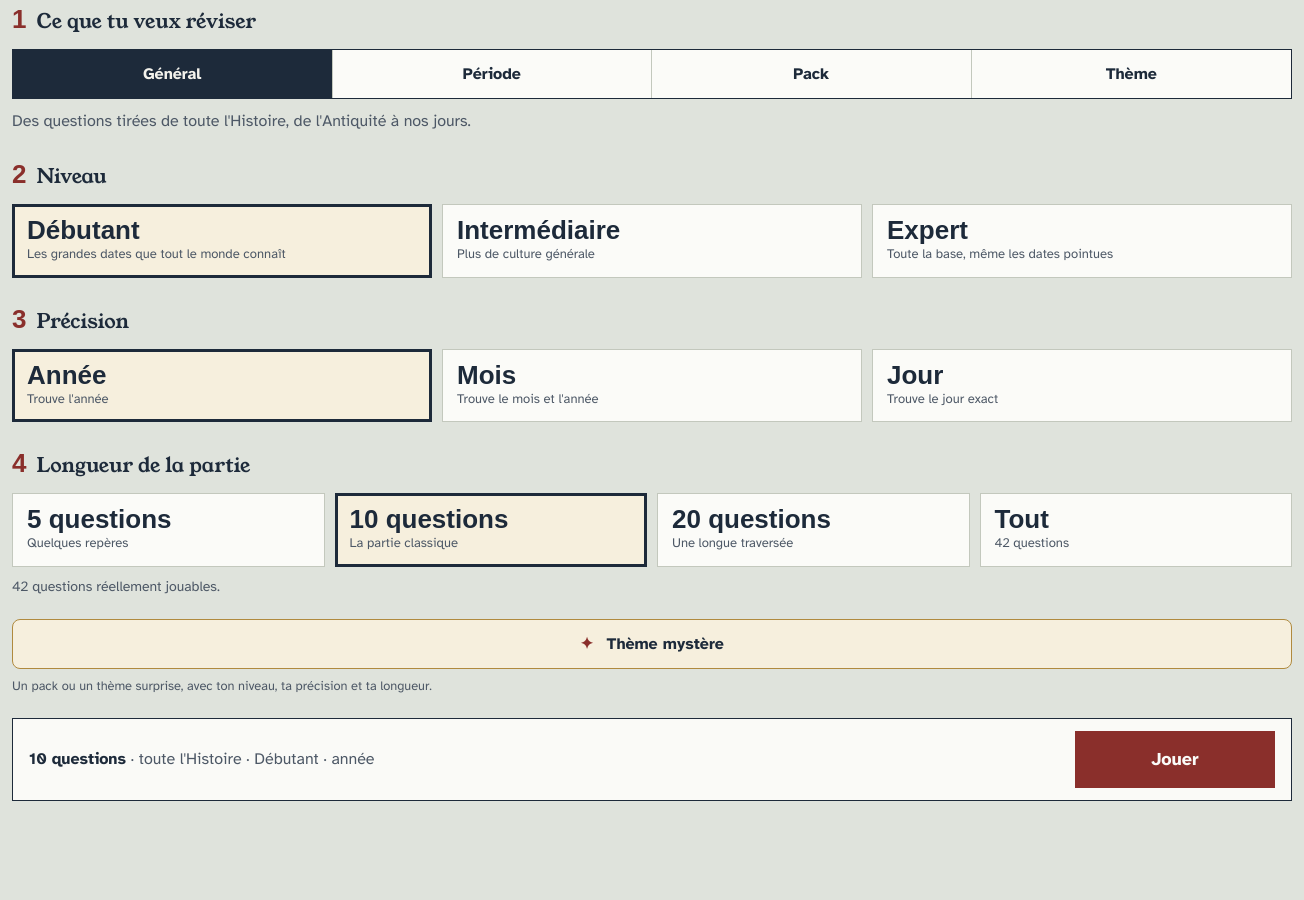
Scenario: reprend une mémoire historique avec dix questions et désactive les longueurs indisponibles
Expected: the text "42 questions réellement jouables." is shown, [12, 578, 220, 594]
Click the button "Jour Trouve le jour exact".
click(915, 374)  # box [872, 348, 1292, 422]
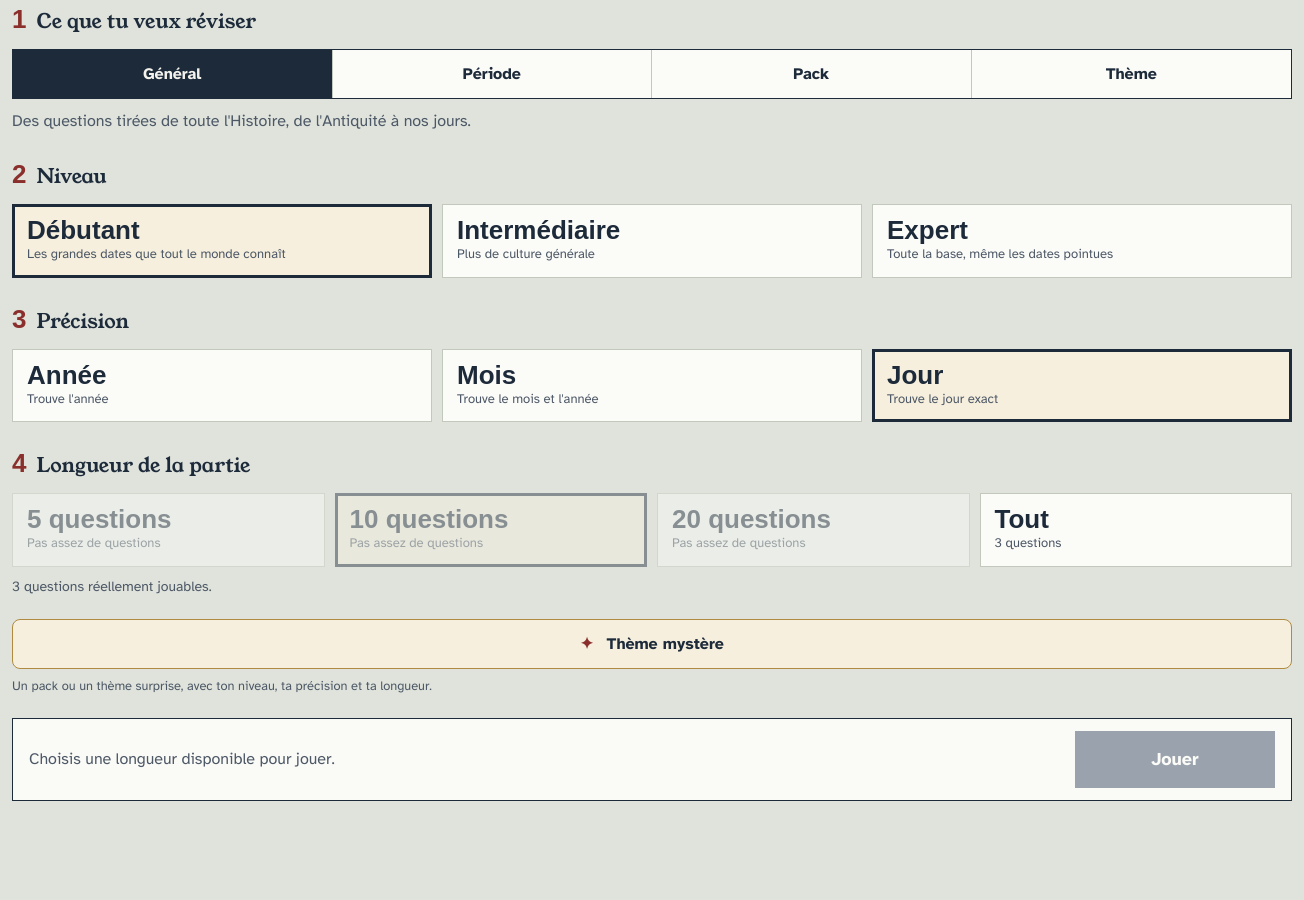
Result: the button "5 questions Pas assez de questions" is disabled at [12, 493, 324, 566]
Result: the button "10 questions Pas assez de questions" is disabled at [334, 493, 647, 566]
Result: the button "20 questions Pas assez de questions" is disabled at [657, 493, 970, 566]
Click the button "Tout 3 questions".
click(1022, 519)  # box [980, 493, 1292, 566]
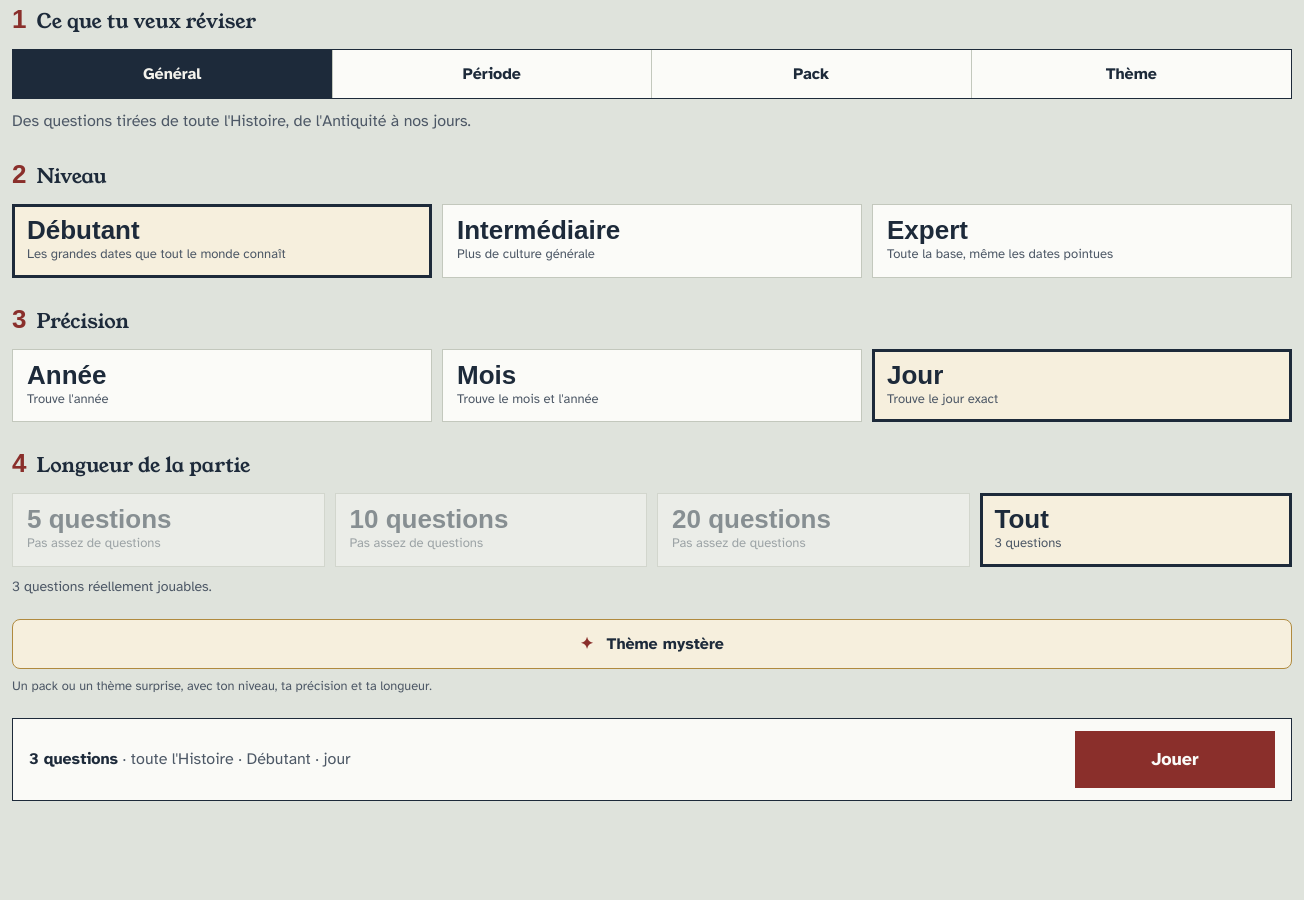
Result: the button "Jouer" is enabled at [1075, 731, 1275, 788]
